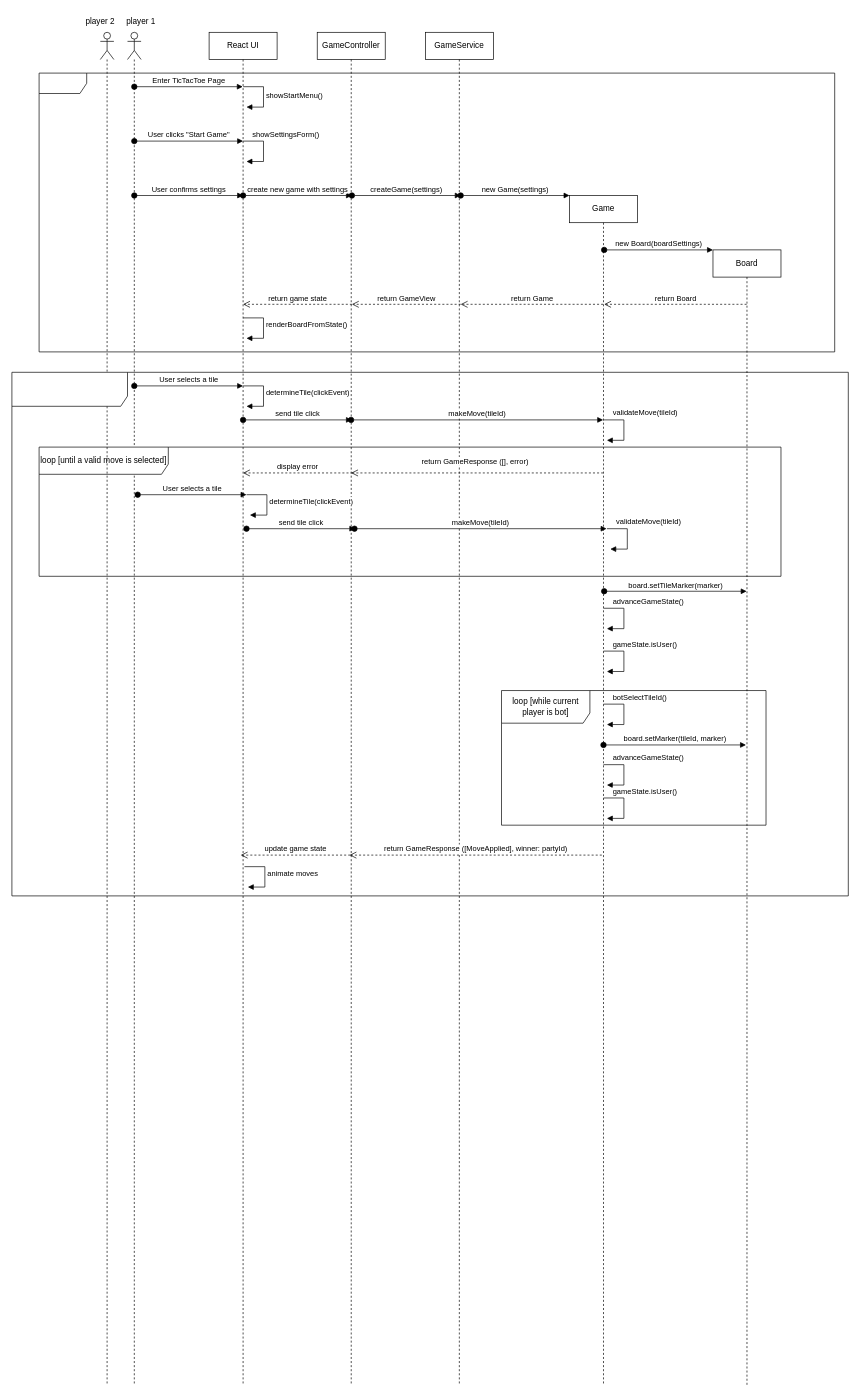
This 860x1397 diagram has some shape labels left out. Here are the shapes that lost their labels. From the top down, the centre of each, then its label:
At pixel 436 212: "game start".
At pixel 429 634: "loop [while game is not over]".
